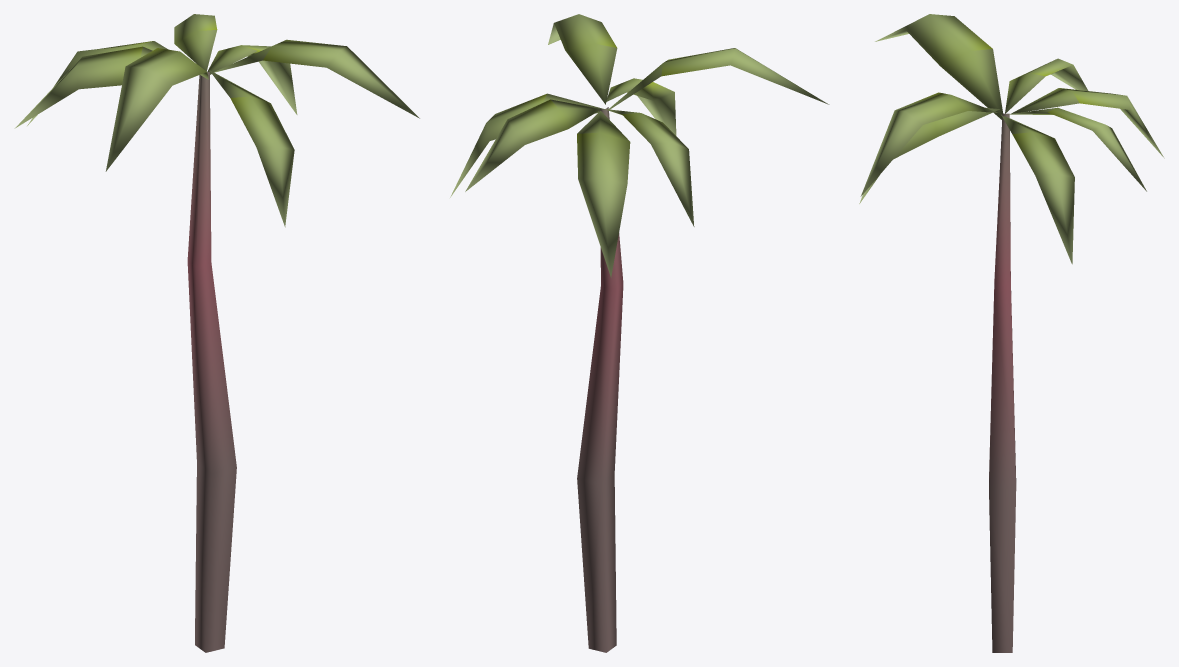
The model's file is palm.glb.
The picture shows the model from 3 angles, left to right: view 1: azimuth 30°, elevation 25°; view 2: azimuth 150°, elevation 25°; view 3: azimuth 270°, elevation 25°; orthographic projection. The views are drawn at different scales.
Parts seen in each view (by area): view 1: palm; view 2: palm; view 3: palm.
Boxes of the visible parts, box(x1,y1,x2,y2) form: palm: box(14, 14, 419, 652); palm: box(450, 14, 829, 652); palm: box(859, 14, 1164, 652).
Size of the model in its own units: 4.46 by 8.75 by 4.12.
